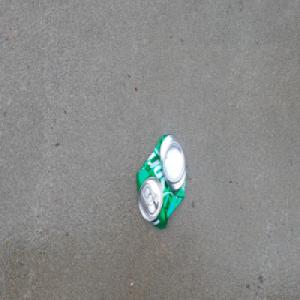SodaCan: (135, 133, 187, 233)
